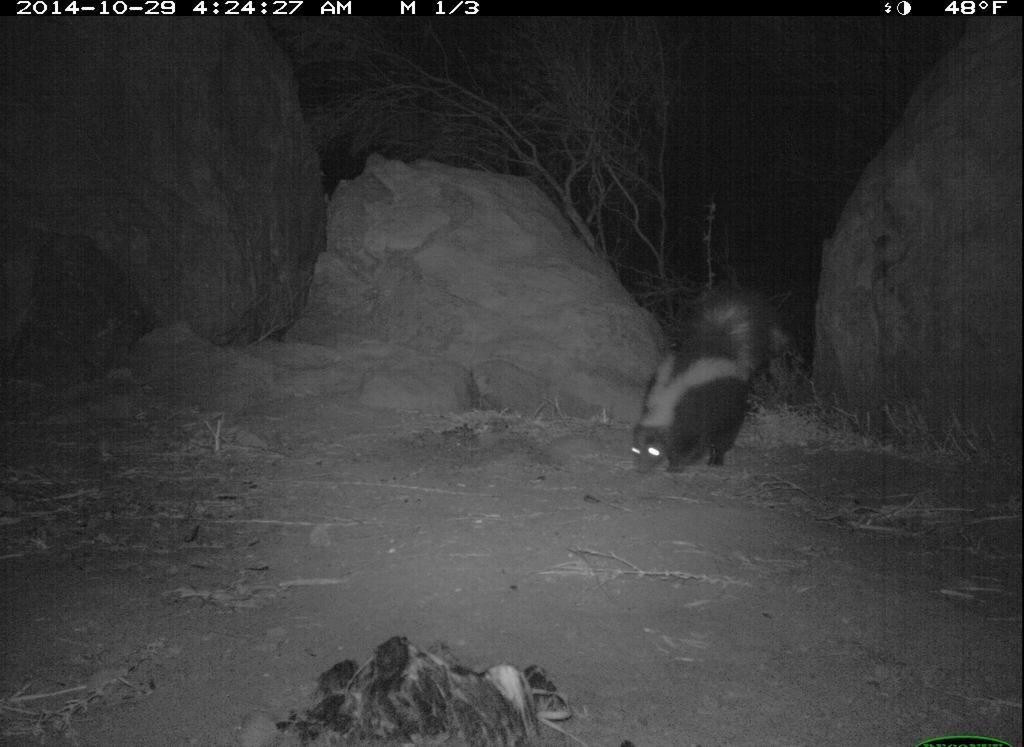skunk: (616, 281, 769, 487)
